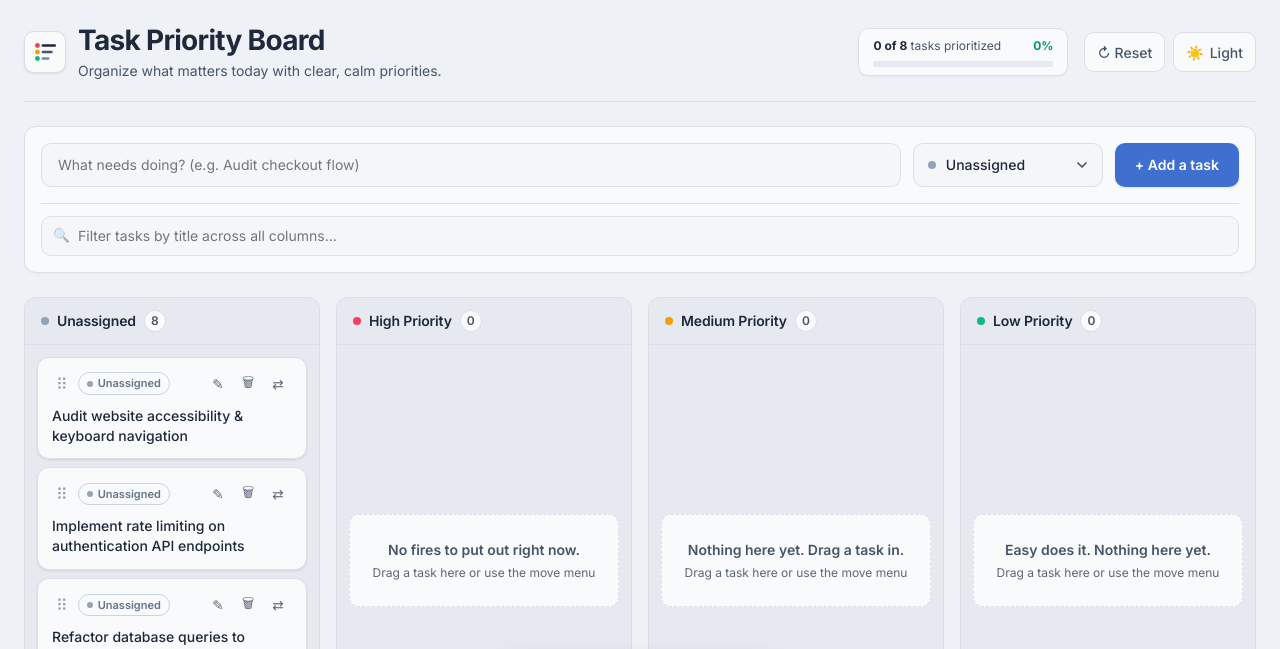
Scenario: Task Priority Board Integration Tests › allows adding a new task to Unassigned and rejects empty or duplicate titles
Note: Try empty submission
Click the button with aria-label "Add Task to Board": (1177, 165) left=1115, top=143, right=1239, bottom=187
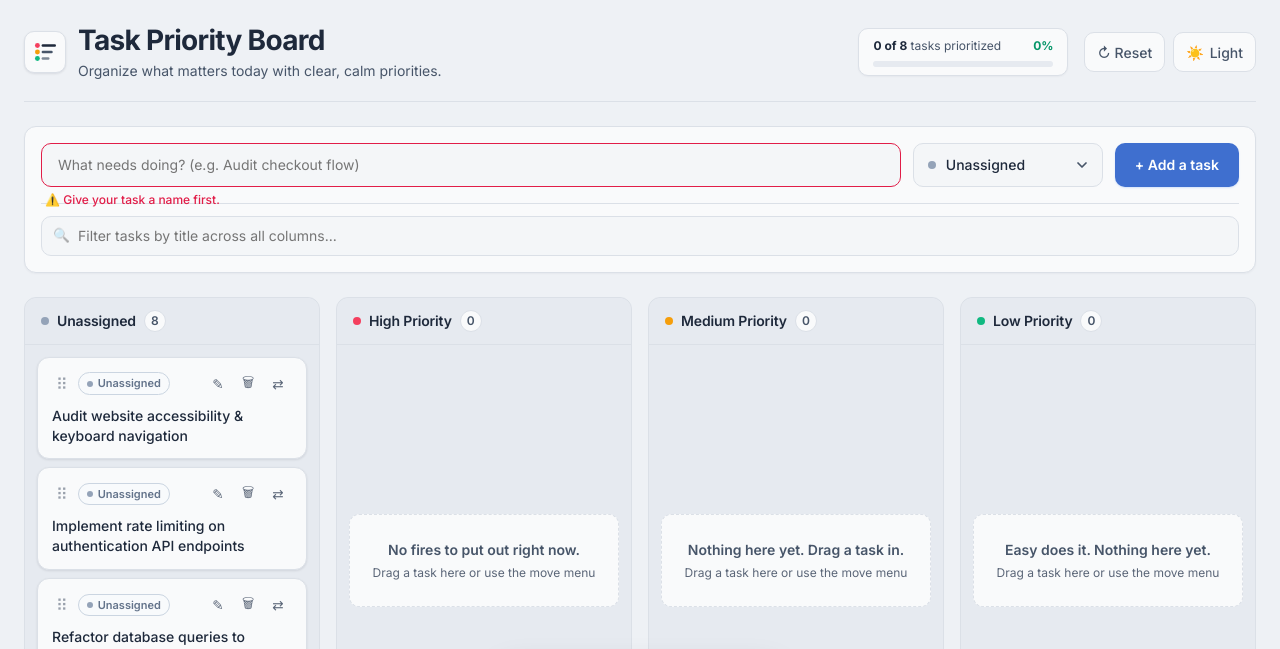
Result: the message "⚠️ Give your task a name first." is shown at left=45, top=191, right=220, bottom=209
Note: Try duplicate submission with an existing task
In the field with placeholder "What needs doing? (e.g. Audit checkout flow)": (471, 165) left=41, top=143, right=901, bottom=187, type "Audit website accessibility & keyboard navigation"
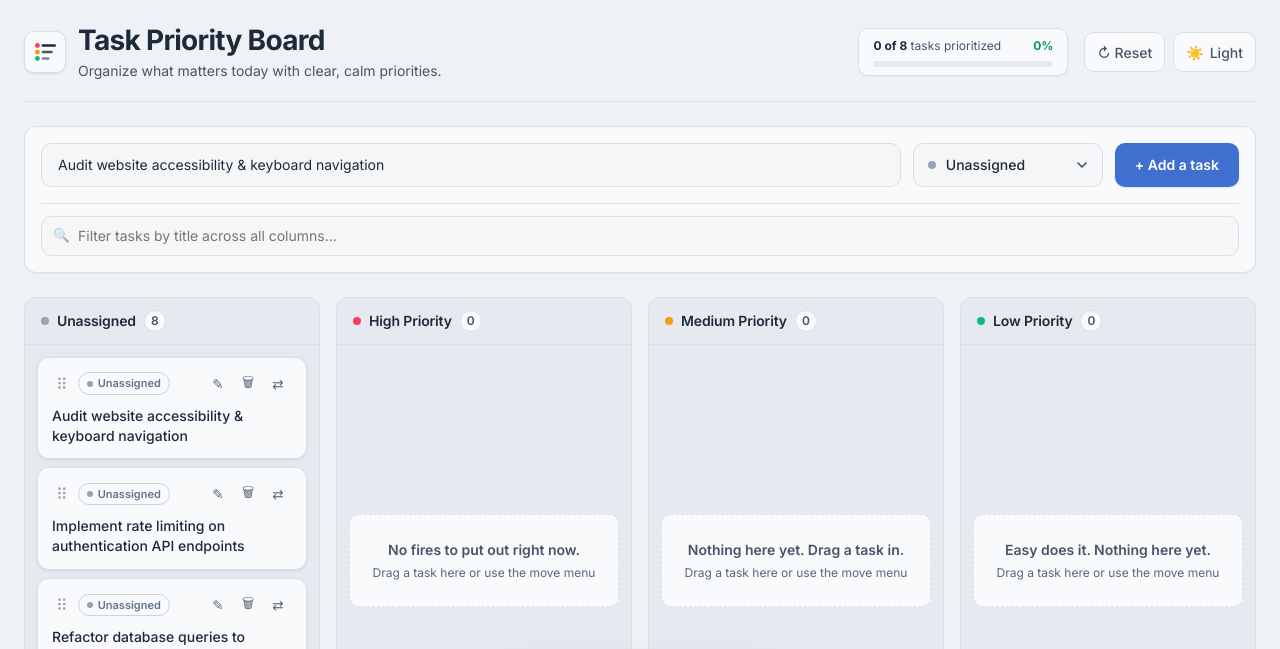
Click the button with aria-label "Add Task to Board": (1177, 165) left=1115, top=143, right=1239, bottom=187
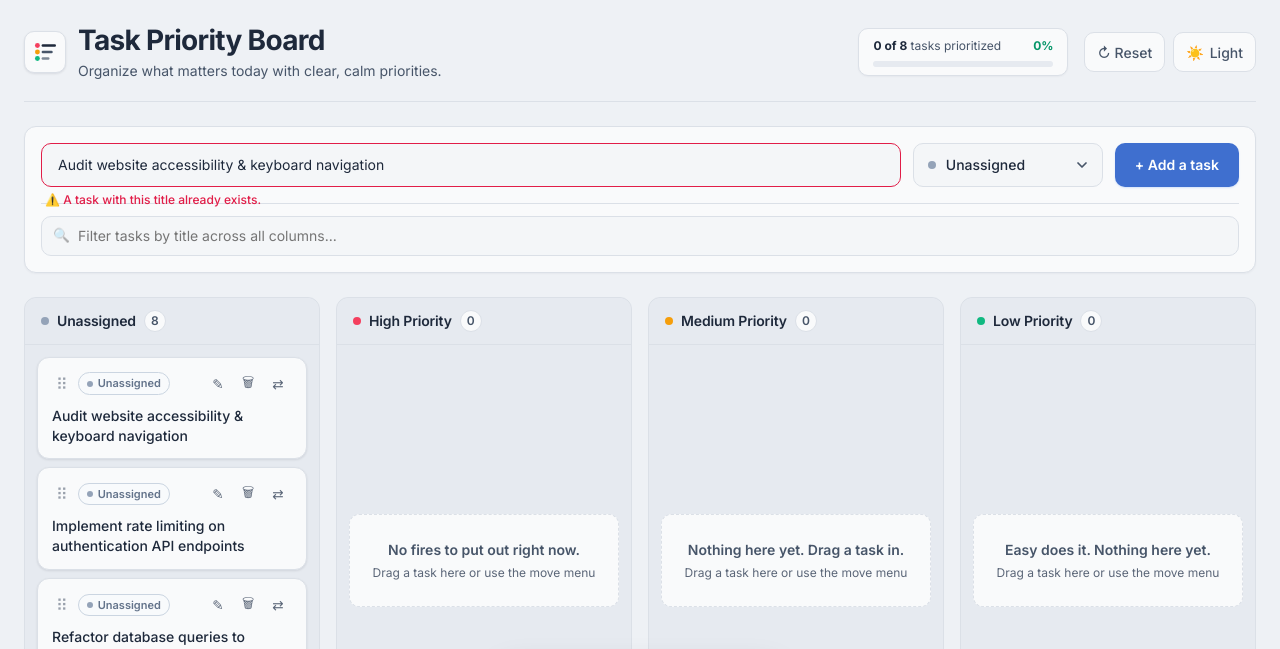
Result: the message "⚠️ A task with this title already exists." is shown at left=45, top=191, right=261, bottom=209
Note: Valid submission
Replace the text in the field with placeholder "What needs doing? (e.g. Audit checkout flow)" with "Build GraphQL gateway service": (471, 165) left=41, top=143, right=901, bottom=187
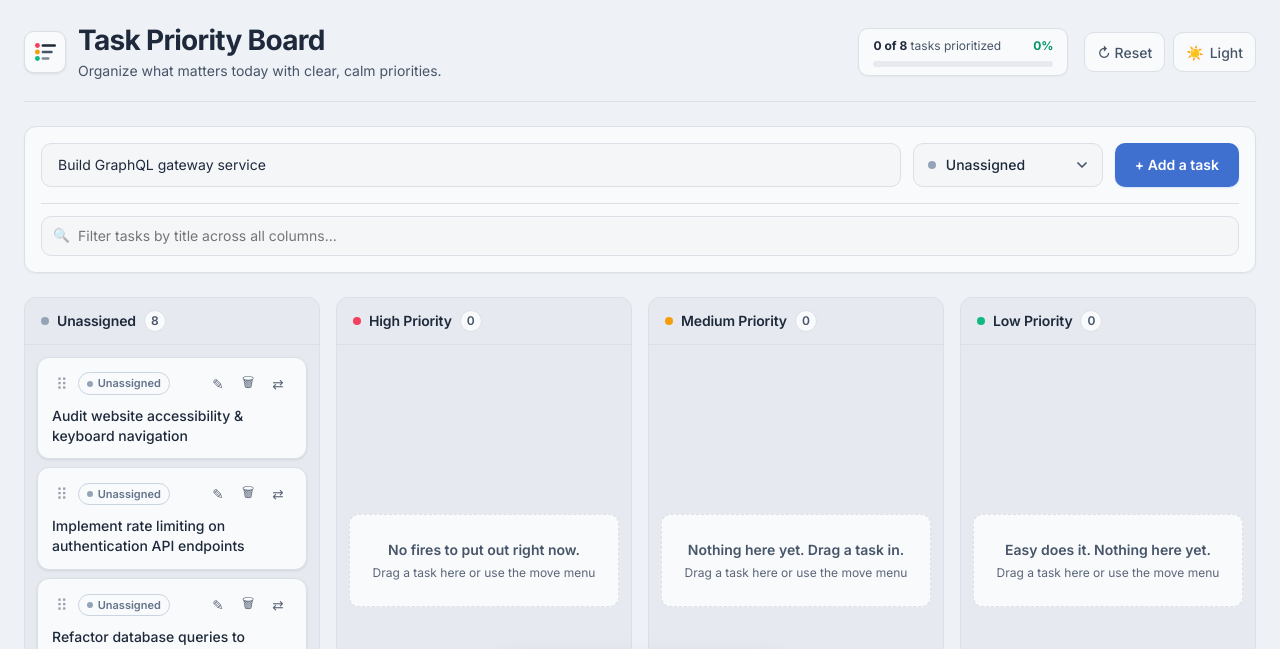
Click the button with aria-label "Add Task to Board": (1177, 165) left=1115, top=143, right=1239, bottom=187
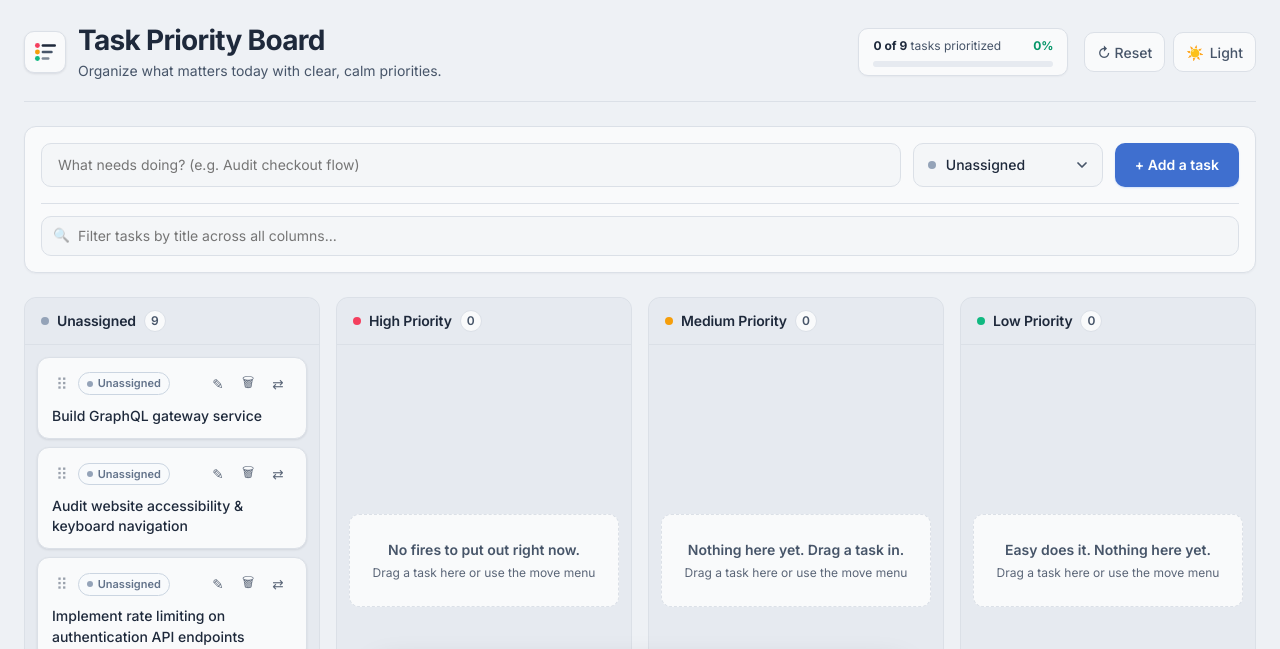
Expected: the message "⚠️ A task with this title already exists." is not shown
Result: the heading "Build GraphQL gateway service" is shown at left=52, top=406, right=292, bottom=426
Result: the text "9" is shown at left=144, top=310, right=166, bottom=332
